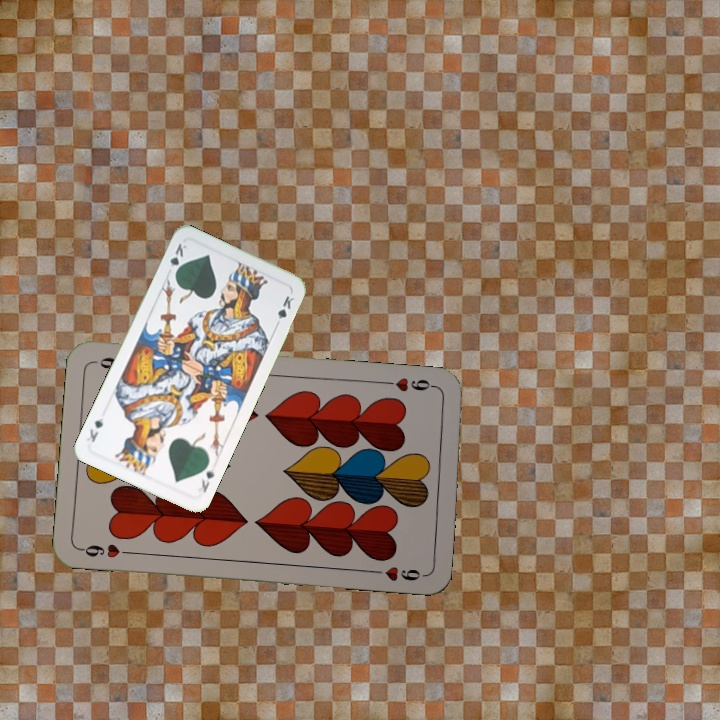GK: (165, 239, 189, 279), (194, 463, 217, 495)
H9: (77, 539, 136, 561), (380, 373, 439, 395)
